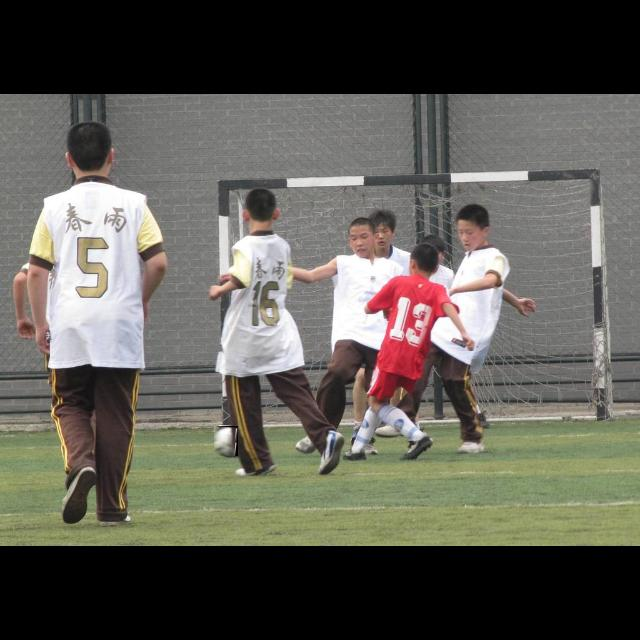Football: (214, 426, 238, 456)
